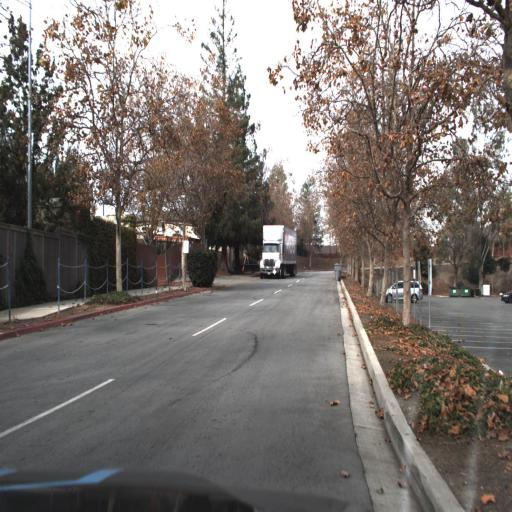car: (382, 276, 423, 304), (498, 286, 512, 303)
truck: (258, 223, 298, 277)
